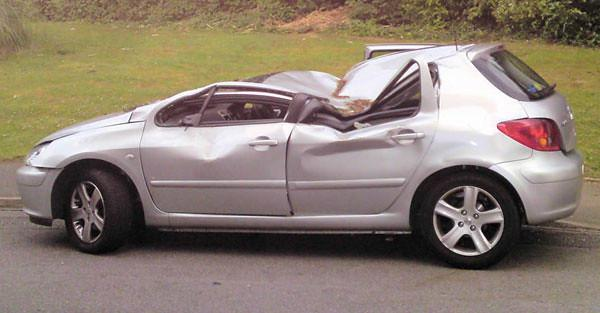doorouter-dent: (142, 117, 300, 216), (289, 123, 430, 206)
fender-dent: (26, 130, 116, 183)
roof-dent: (252, 53, 492, 94)
